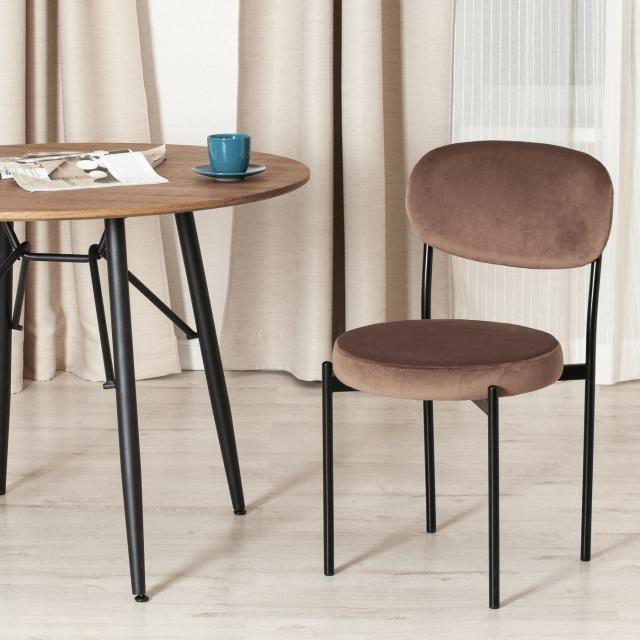chair: (317, 134, 617, 612), (317, 134, 617, 422)
